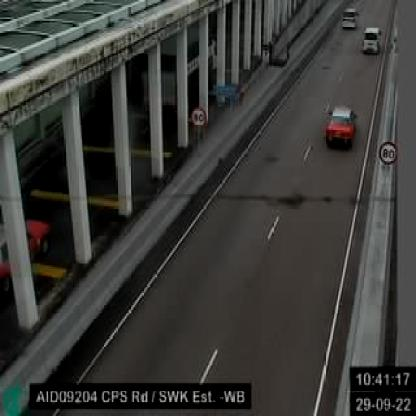Car: (0, 202, 53, 294), (324, 99, 361, 154), (360, 22, 385, 59), (338, 3, 359, 34)
